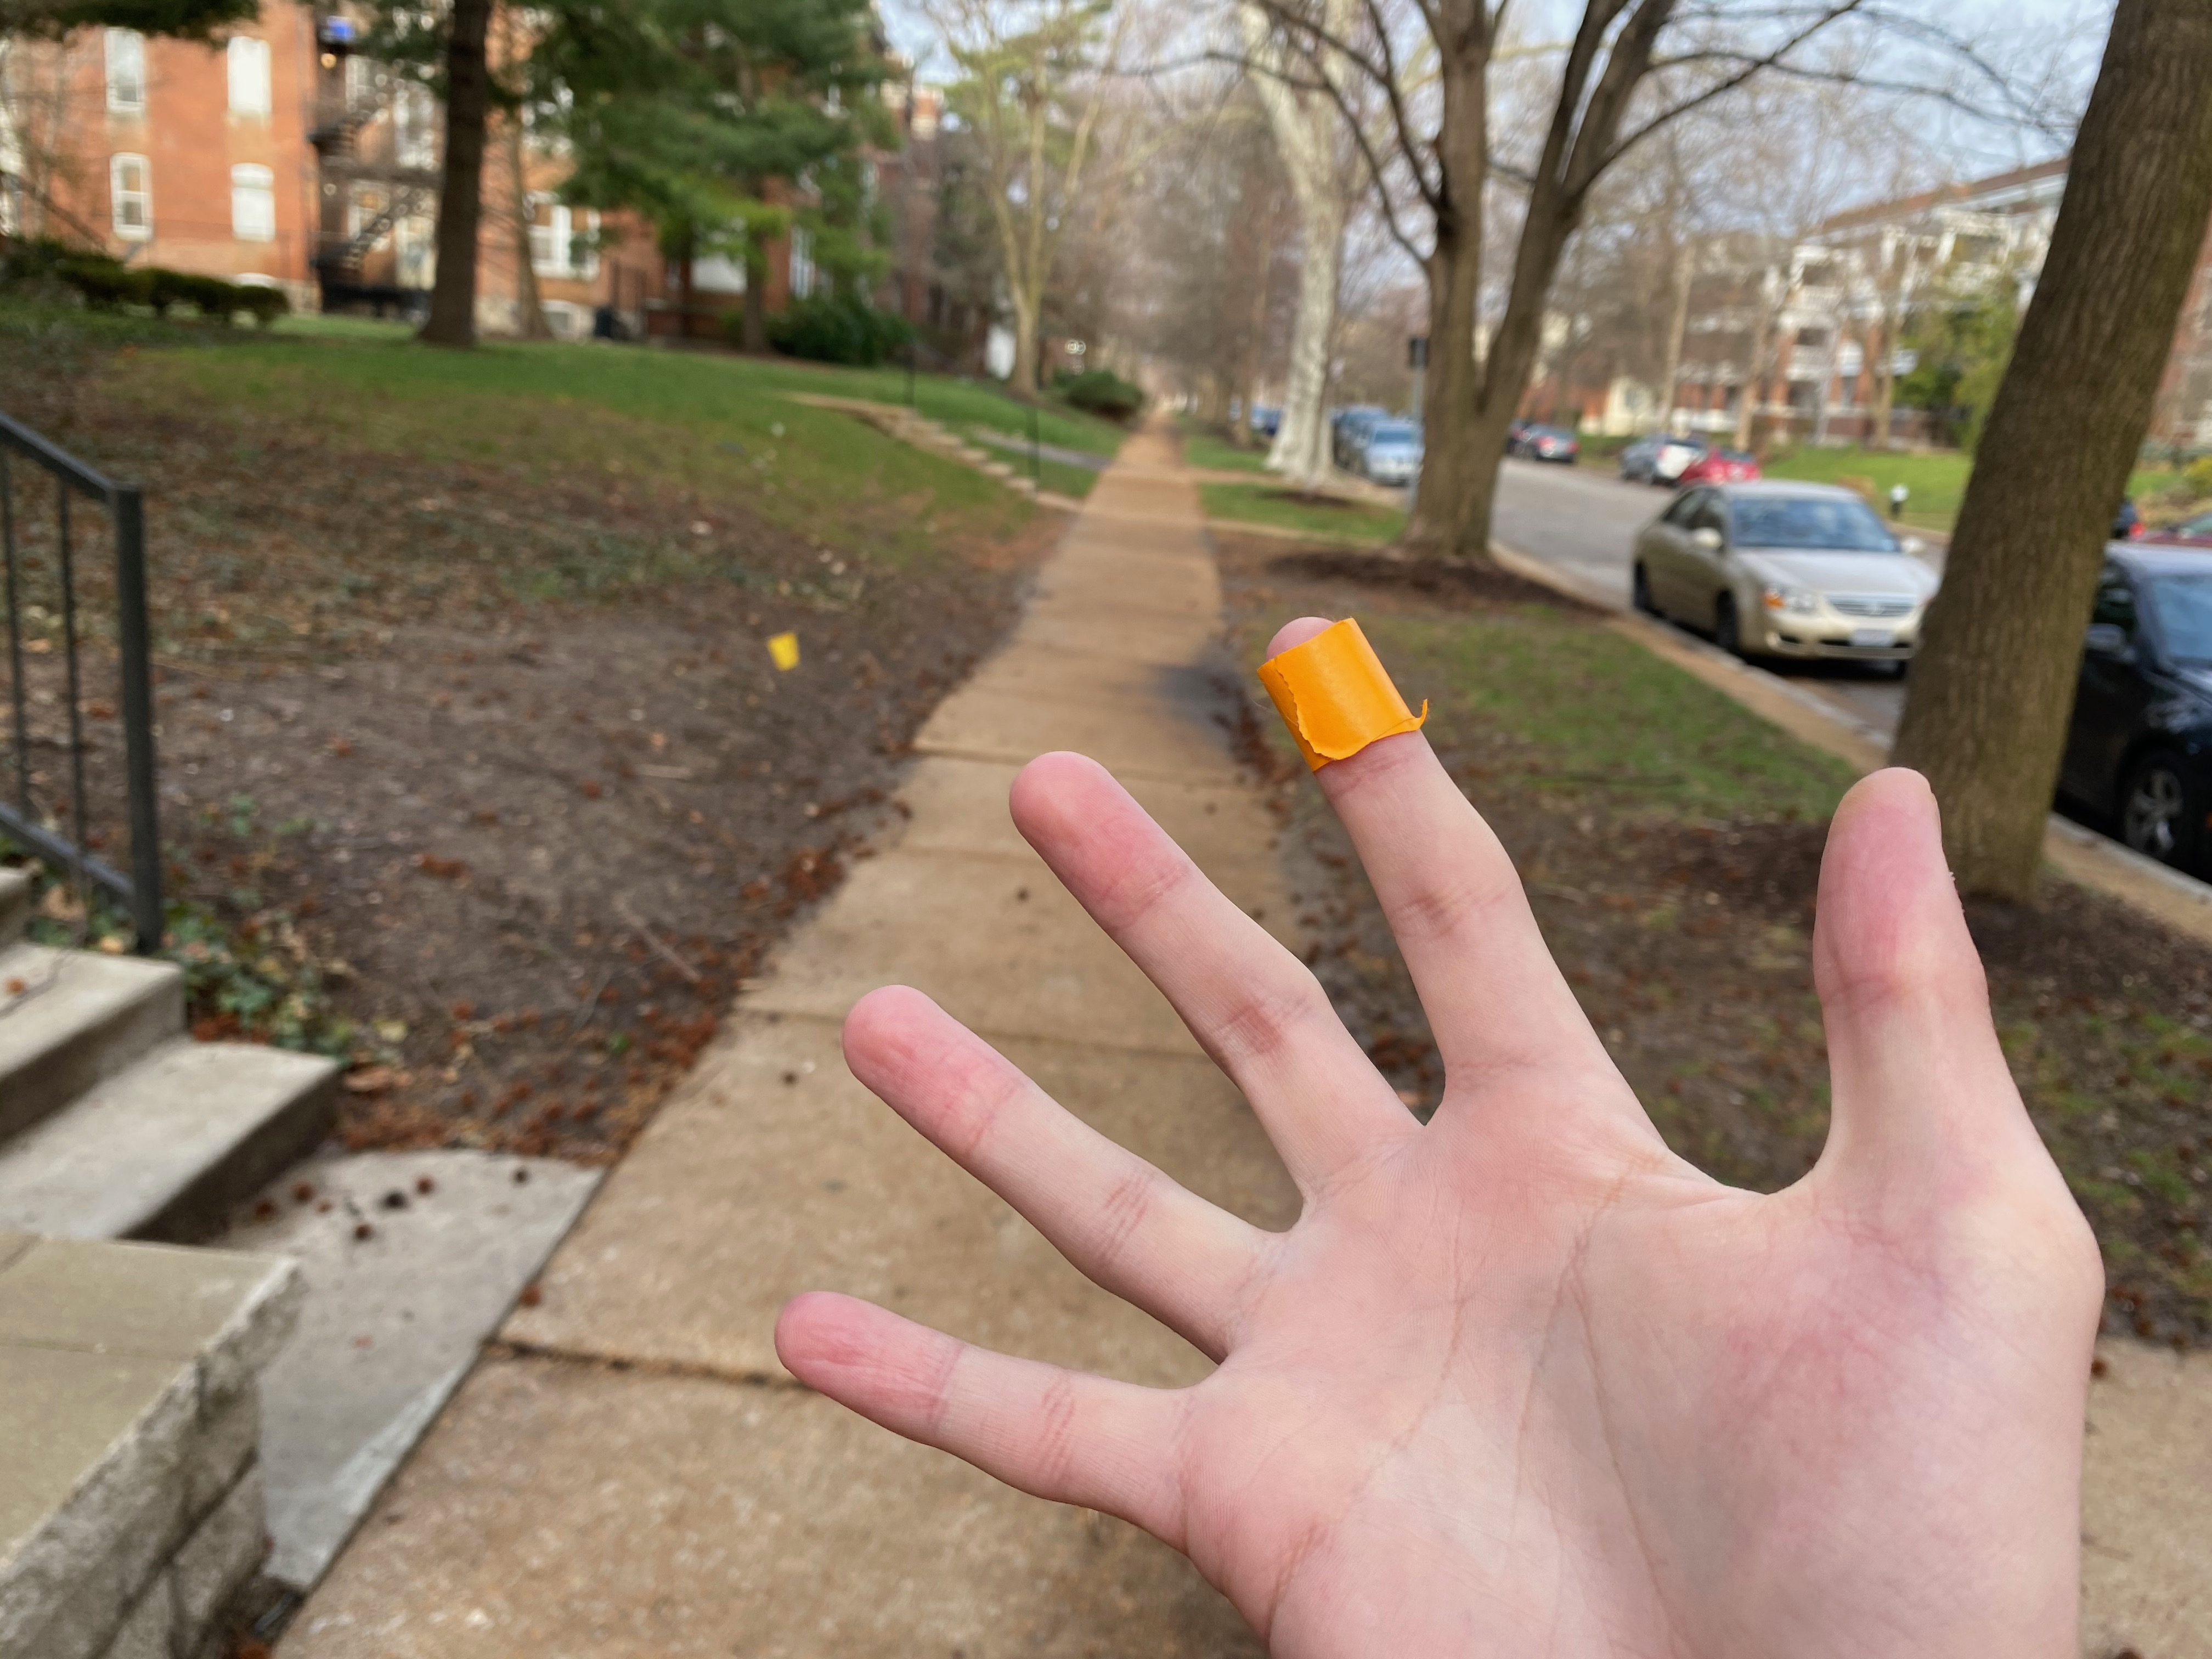fingertip: (1193, 586, 1527, 803)
